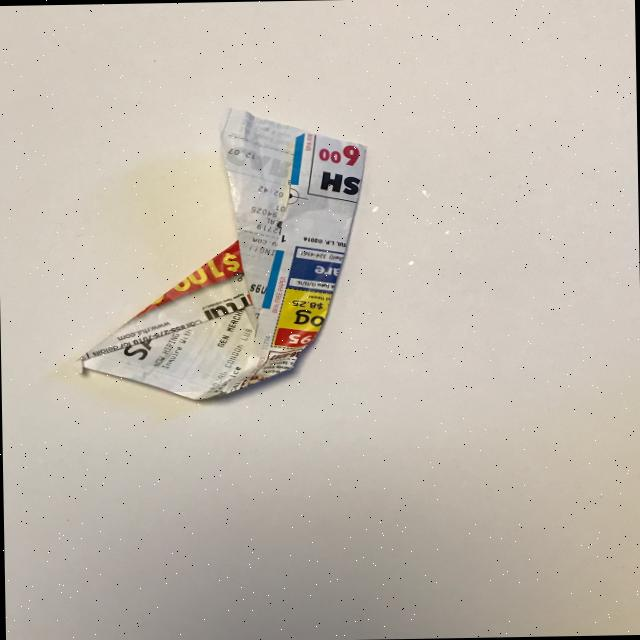paper: (70, 104, 372, 402)
